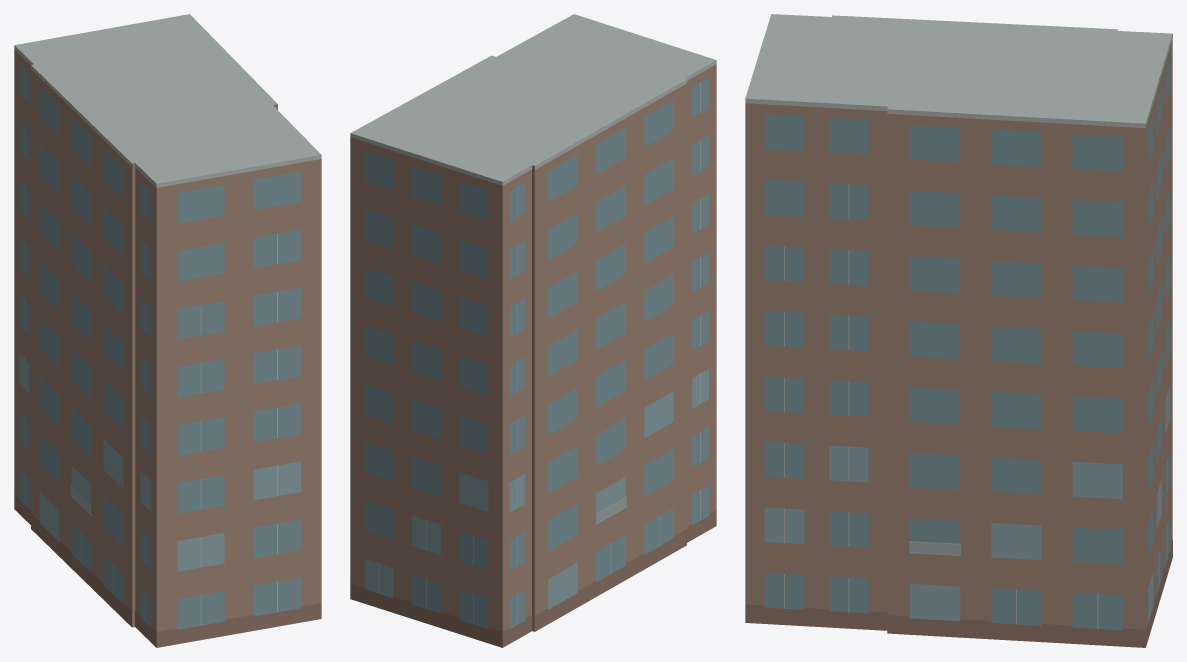
Rendered from survey-upis-32525745.glb.
3 views of the same model, side by side, from view 1: azimuth 30°, elevation 25°; view 2: azimuth 150°, elevation 25°; view 3: azimuth 270°, elevation 25° (orthographic). The views are drawn at different scales.
Parts seen in each view (by area): view 1: survey-upis-32525745.tmp; view 2: survey-upis-32525745.tmp; view 3: survey-upis-32525745.tmp.
Part boxes in pixels (x1=…): survey-upis-32525745.tmp: x1=14, y1=14, x2=321, y2=647; survey-upis-32525745.tmp: x1=350, y1=14, x2=716, y2=647; survey-upis-32525745.tmp: x1=745, y1=14, x2=1172, y2=647.
Bounding box in the file's own units: 12.41 × 27.65 × 20.44.
